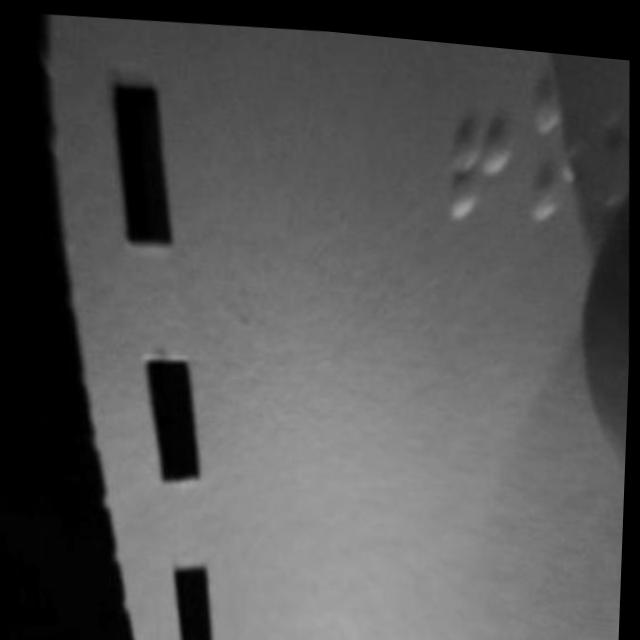braiile: (518, 69, 596, 232), (437, 66, 514, 226)
